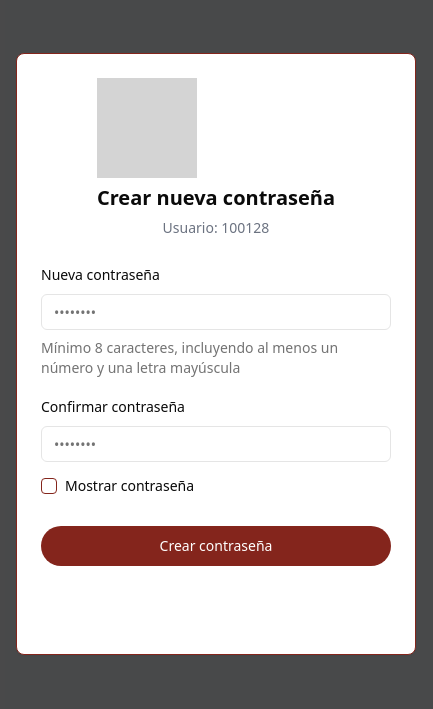
Test: CreatePassword Component › submits form with valid data and shows success message
Expected: the button "Crear contraseña" is shown, [41,526,391,566]
Type "Password123!" into the password field labelled "Nueva contraseña" at (216, 312), box [41,294,391,330]
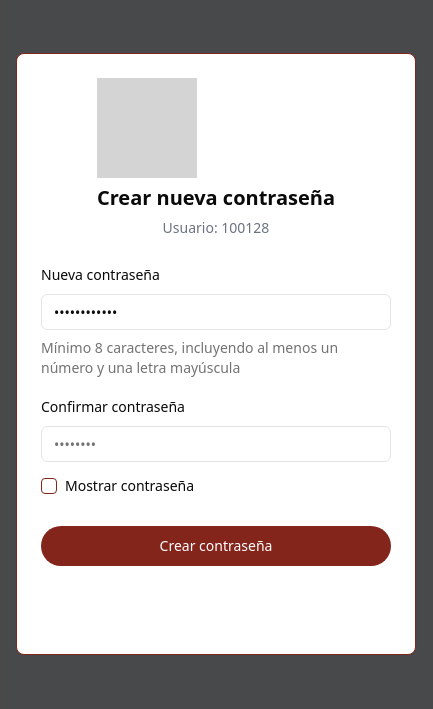
Type "Password123!" into the password field labelled "Confirmar contraseña" at (216, 444), box [41,426,391,462]
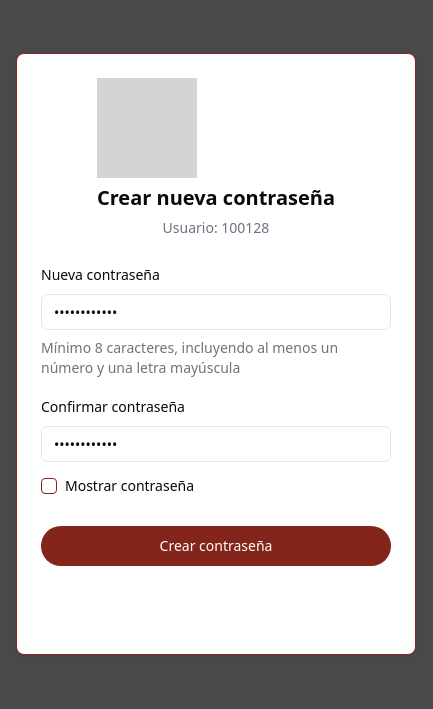
Click the button "Crear contraseña" at (216, 546), box [41,526,391,566]
Wait 3000 ms
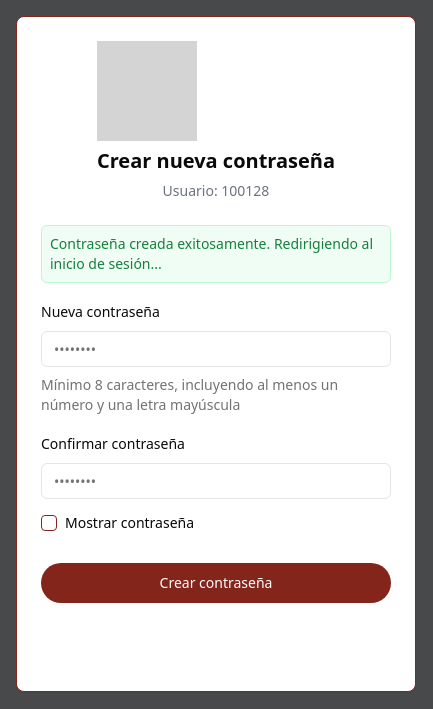
Expected: the text "Contraseña creada exitosamente" is shown, [50,234,373,273]
